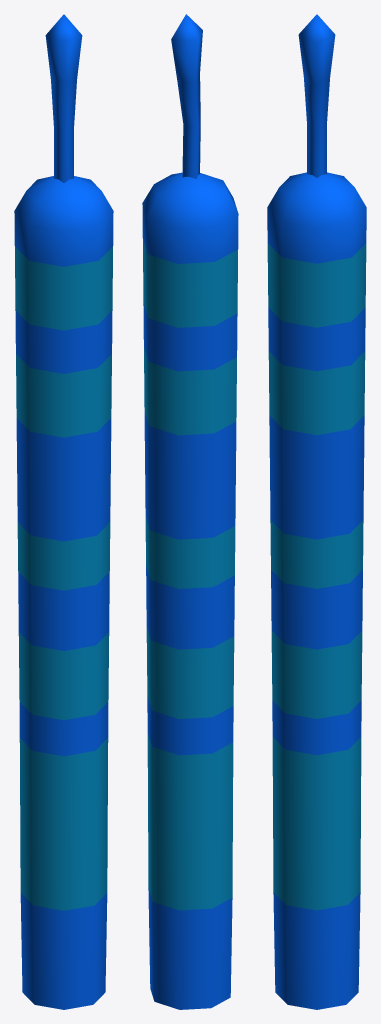
Rendered from birthday_candle_002.glb.
3 renders of one model, left to right at view 1: azimuth 90°, elevation 25°; view 2: azimuth 210°, elevation 25°; view 3: azimuth 270°, elevation 25°, orthographic.
Visible parts, largest first — view 1: birthday_candle_002; view 2: birthday_candle_002; view 3: birthday_candle_002.
Boxes of the visible parts, x1,y1,x2,y2 form: birthday_candle_002: (14, 14, 113, 1009); birthday_candle_002: (142, 14, 238, 1009); birthday_candle_002: (267, 14, 366, 1009).
Size of the model in its own units: 0.9222 by 10.03 by 0.9222.
1 material, 1 textured.
